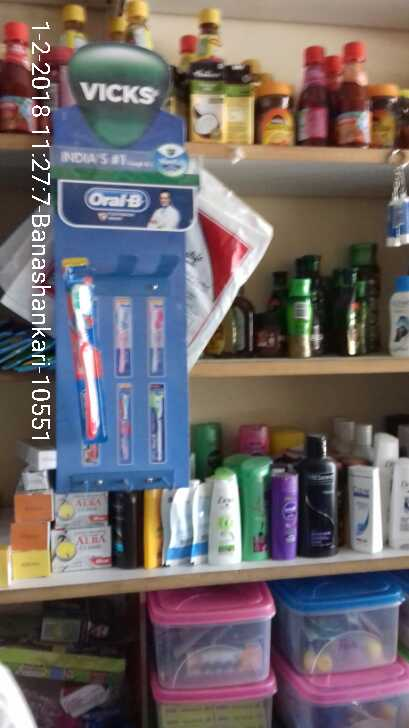oralb: (57, 256, 108, 445)
